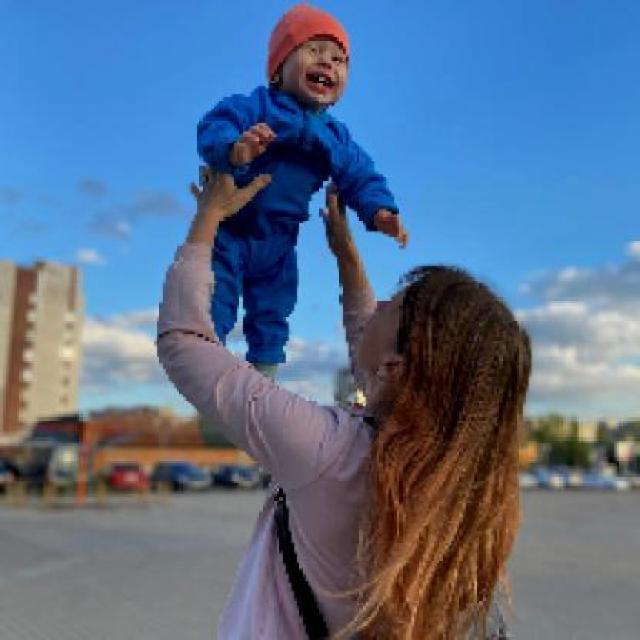child: (195, 3, 411, 386)
